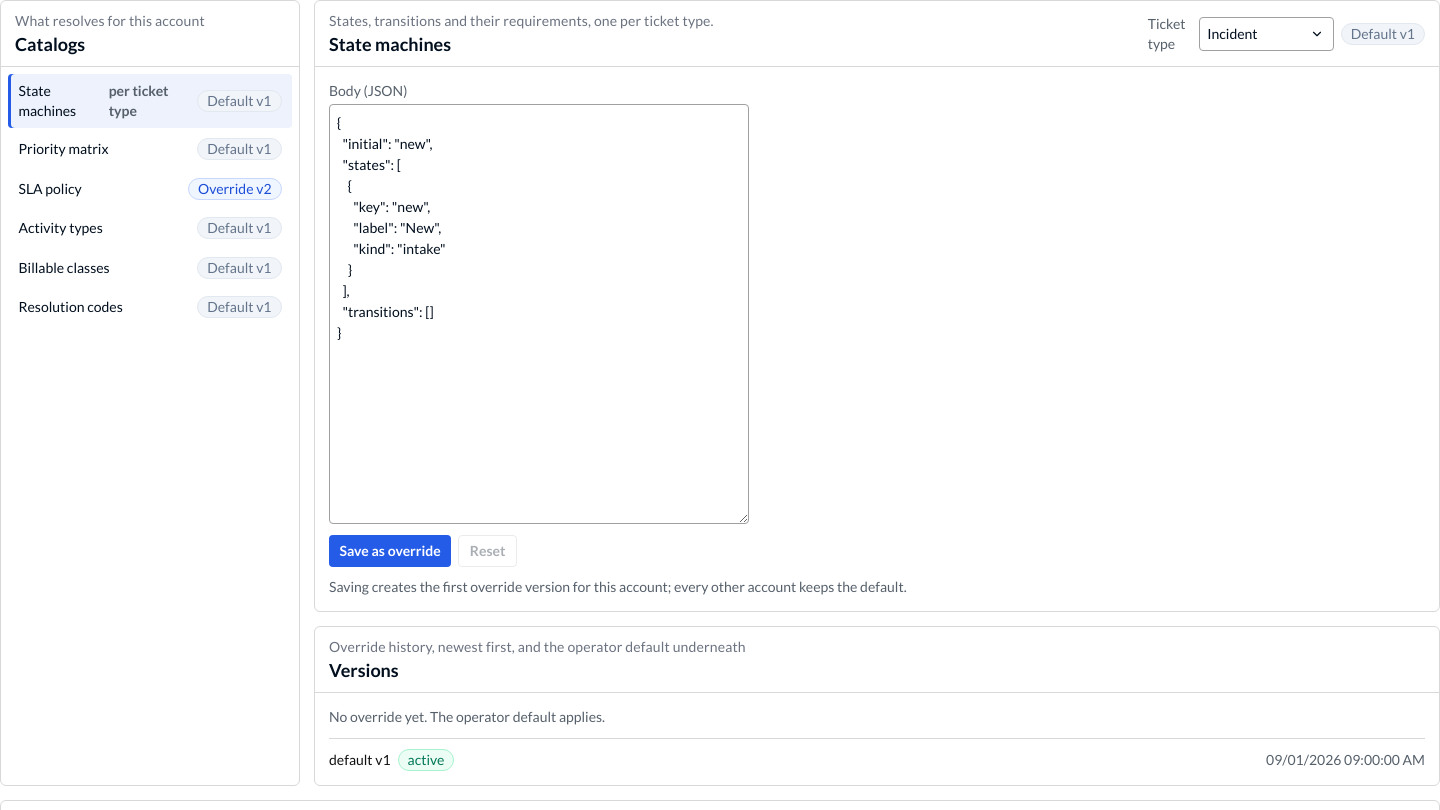
it: AccountConfigTab › removes an active override with a confirm, shows the history and the default body, and words a second removal
Expected: the text "Override v2" is shown, [188,178,282,200]
Click the button "SLA policy Override v2" at (50, 188), box [8,171,292,207]
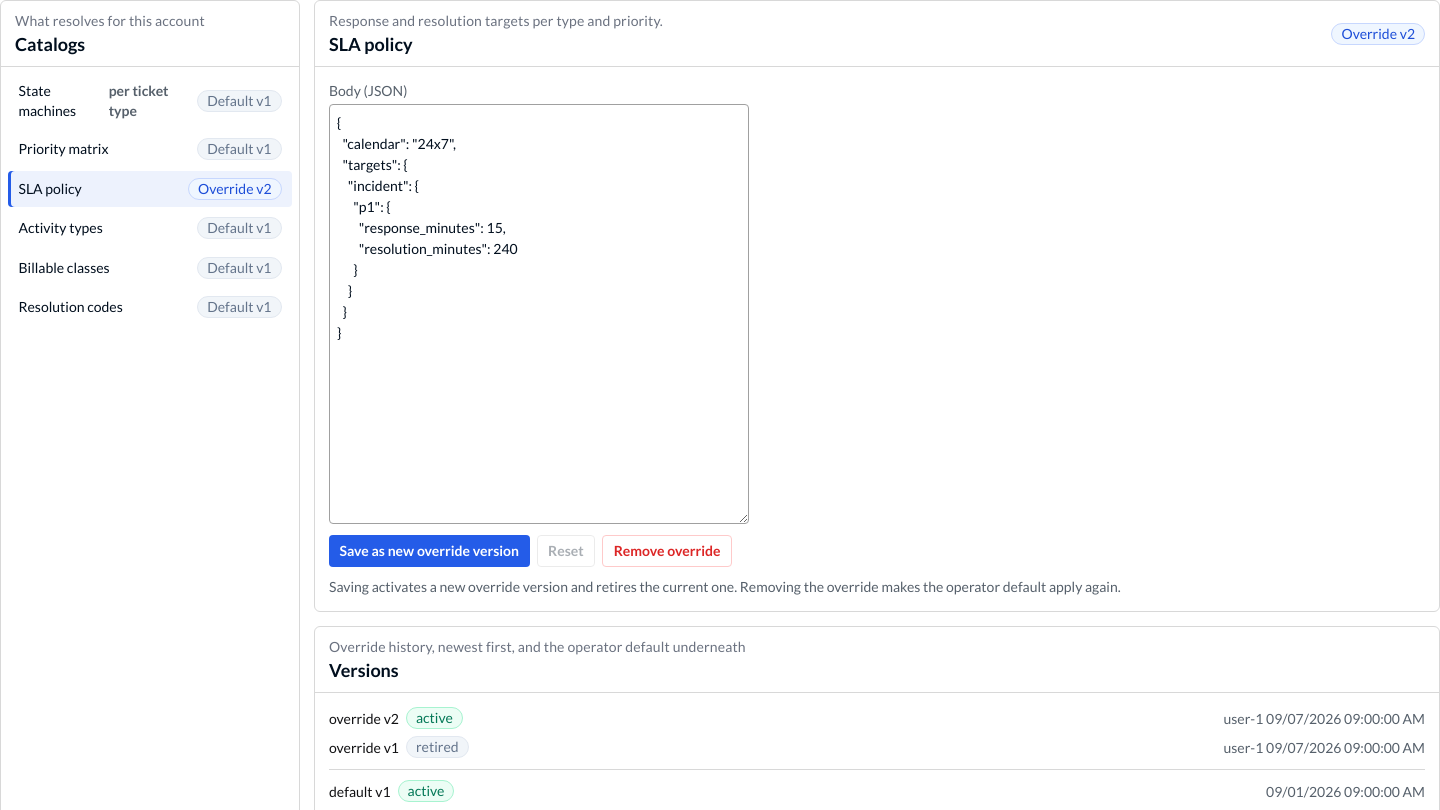
Now the list item "override v2 active user-1 09/07/2026 09:00:00 AM" is shown, box [329,708,1425,730]
Now the list item "override v1 retired user-1 09/07/2026 09:00:00 AM" is shown, box [329,736,1425,758]
Click the button "Remove override" at (667, 551), box [602,535,732,567]
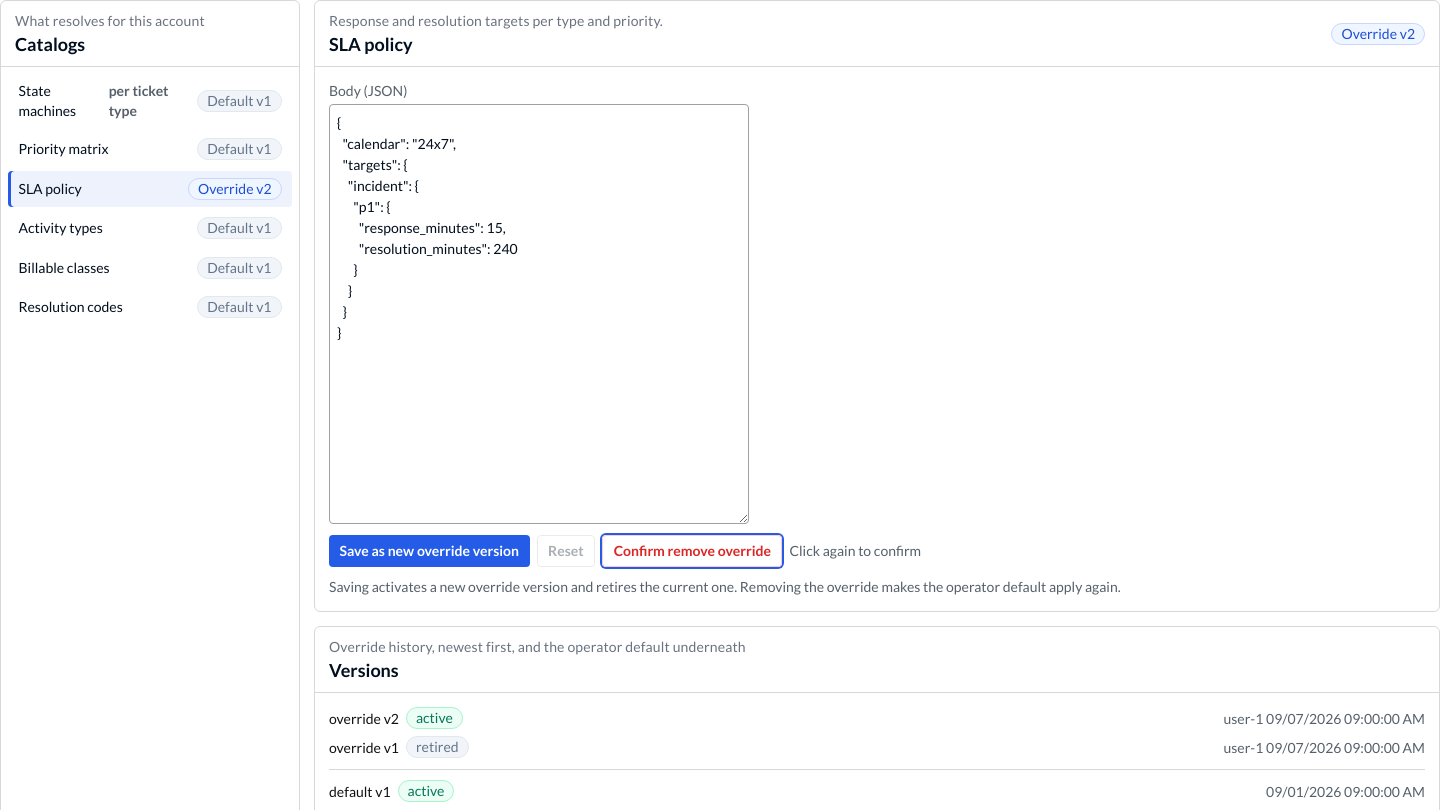
Click the button "Confirm remove override" at (692, 551), box [602,535,782,567]
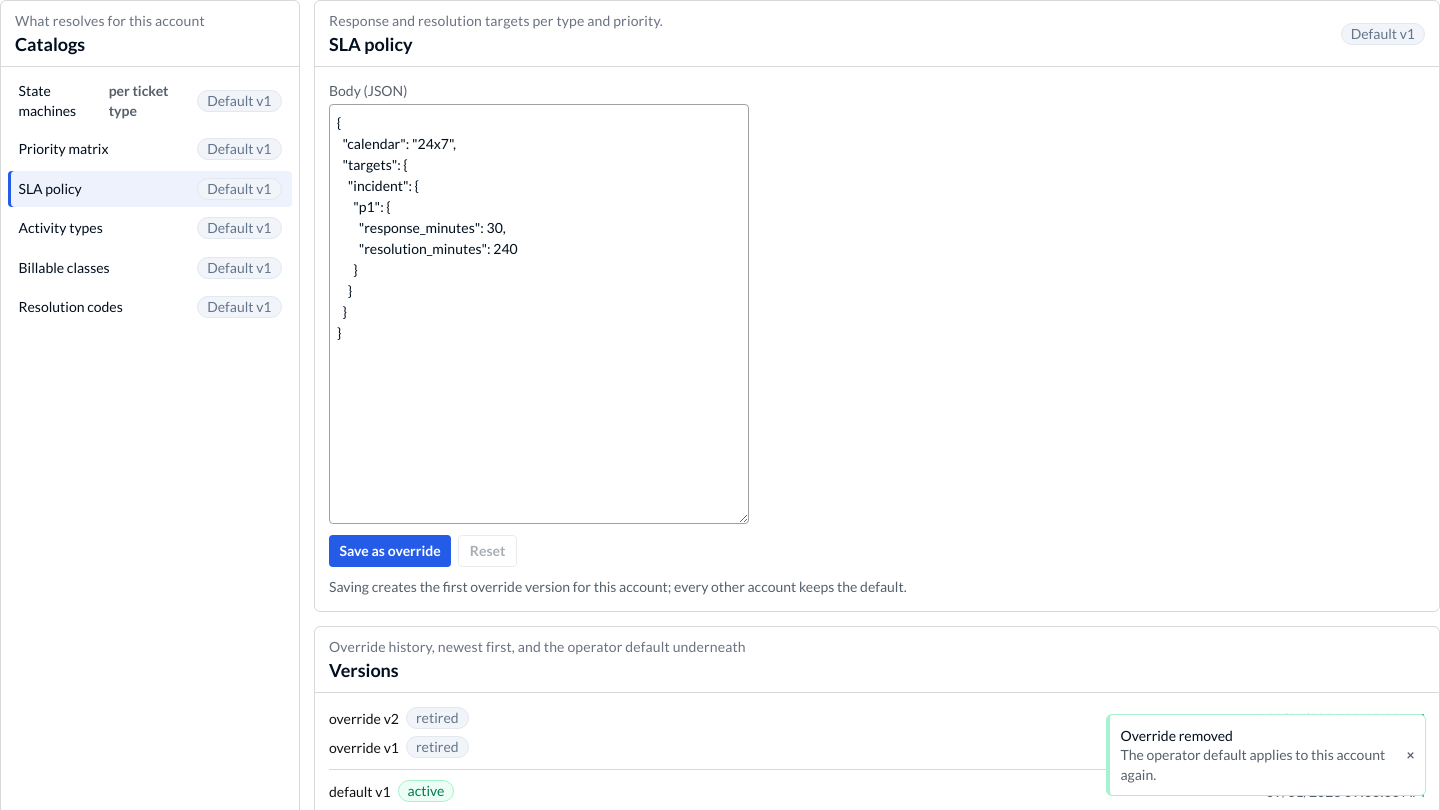
Now the text "The operator default applies to this account again." is shown, box [1120,745,1396,784]
Now the button "remove override" is gone
Now the button "Save as override" is shown, box [329,535,451,567]
